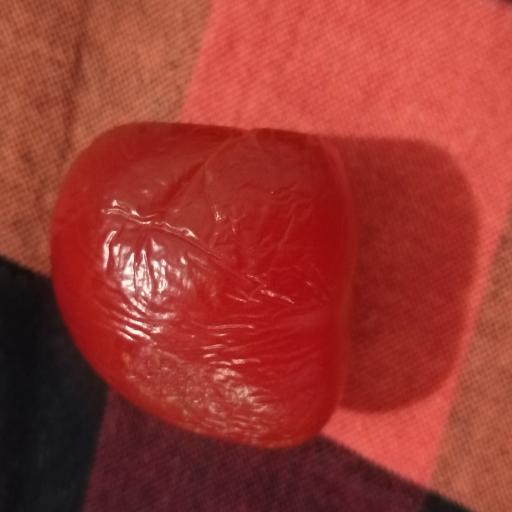spoiled: (52, 123, 353, 446)
